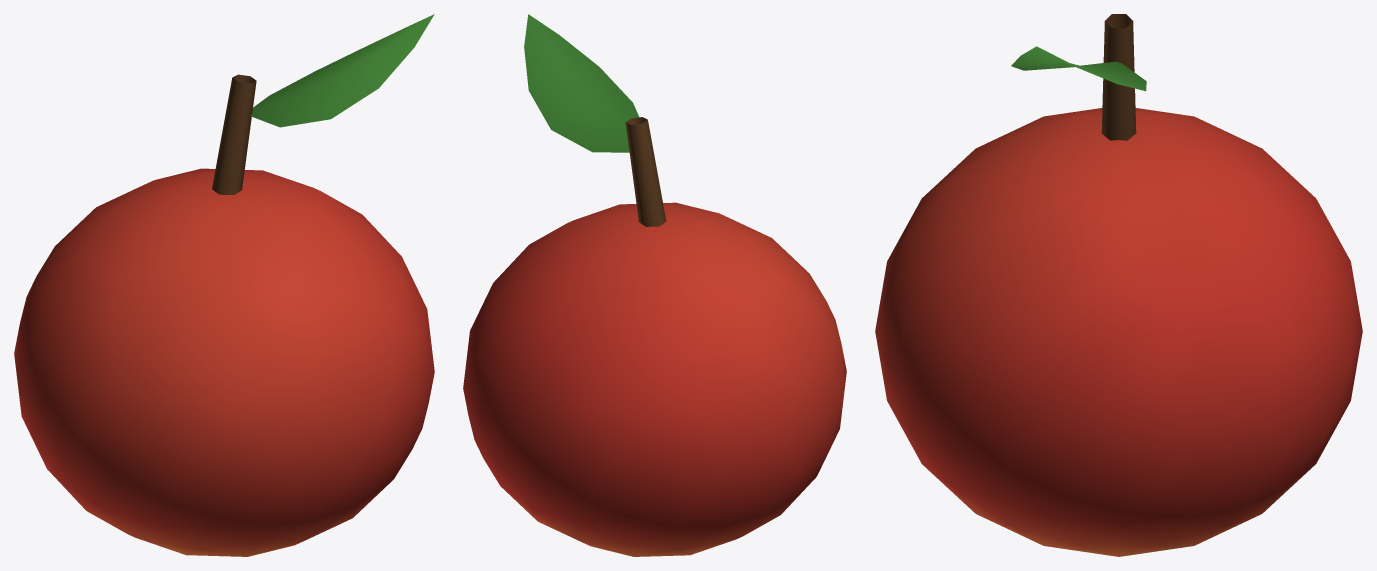
The model's file is fruit_apple.glb.
3 renders of one model, left to right at view 1: azimuth 30°, elevation 25°; view 2: azimuth 150°, elevation 25°; view 3: azimuth 270°, elevation 25°, orthographic. The views are drawn at different scales.
Parts seen in each view (by area): view 1: fruit_apple; view 2: fruit_apple; view 3: fruit_apple.
Part boxes in pixels (<box>): fruit_apple: <box>14,14,434,556</box>; fruit_apple: <box>463,14,846,556</box>; fruit_apple: <box>875,14,1362,556</box>.
Size of the model in its own units: 0.22 by 0.2907 by 0.22.
